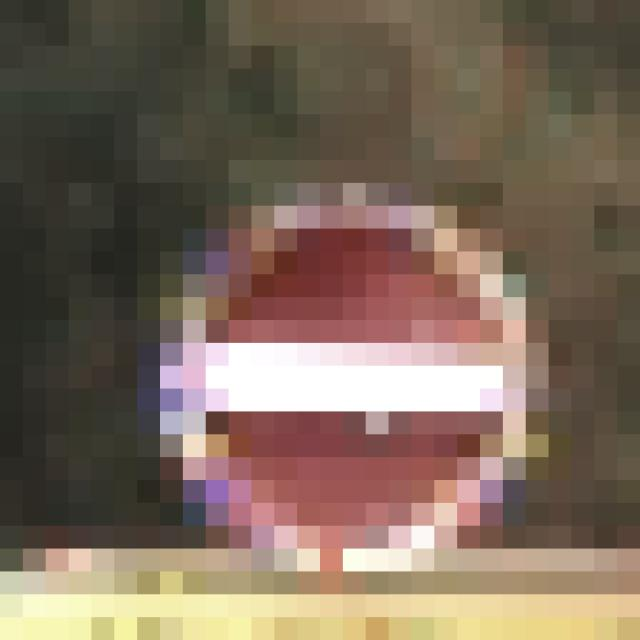No Entry: (138, 138, 527, 527)
